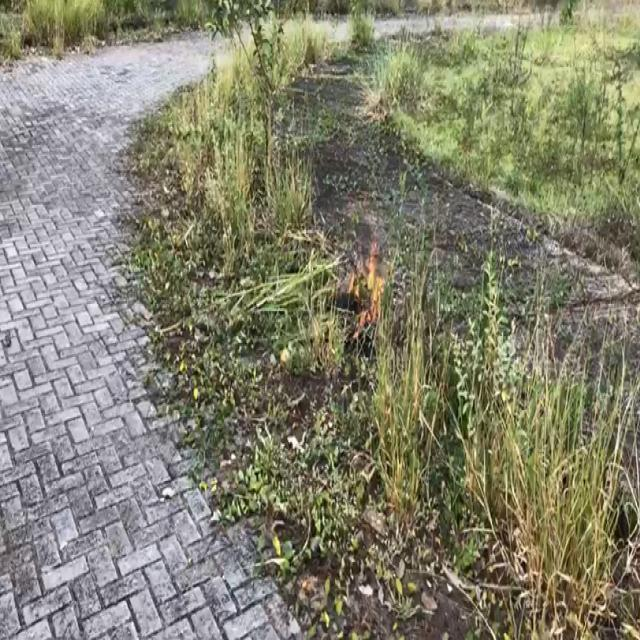Fire: (358, 238, 392, 312)
